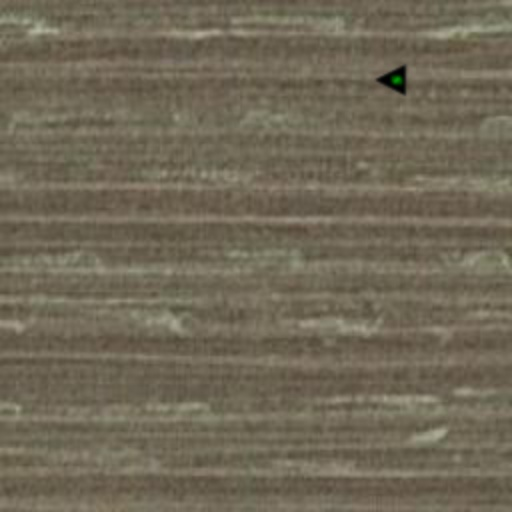triangle: (372, 62, 408, 98)
